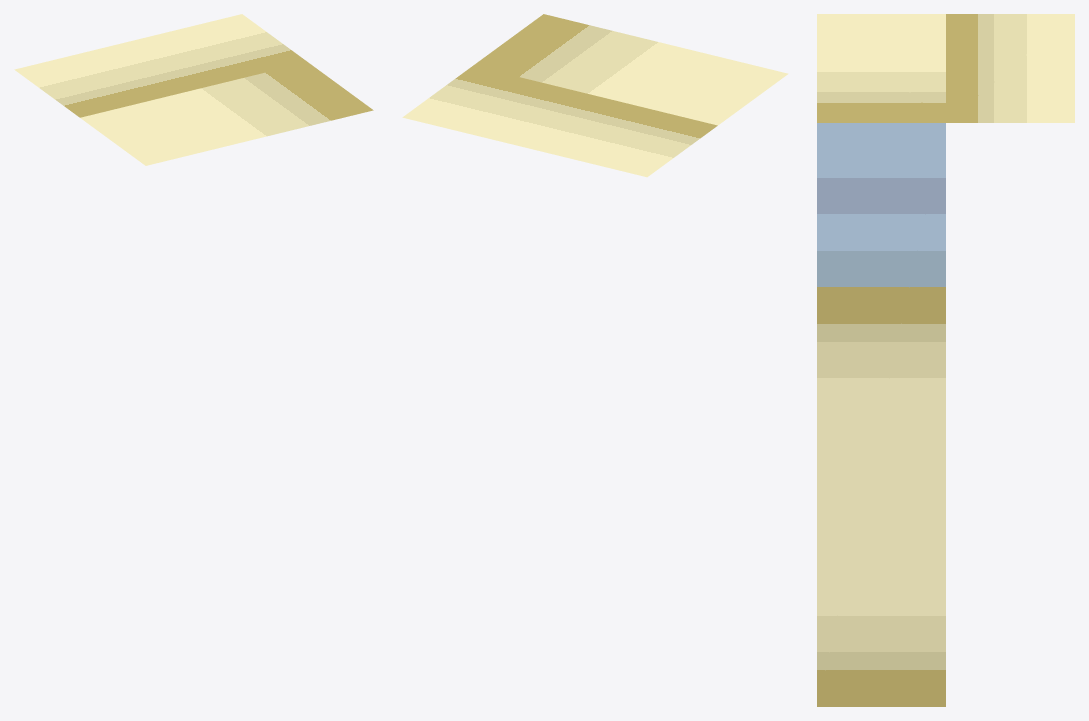
The picture shows the model from 3 angles, left to right: view 1: azimuth 30°, elevation 25°; view 2: azimuth 150°, elevation 25°; view 3: azimuth 270°, elevation 25°; orthographic projection. The views are drawn at different scales.
Size of the model in its own units: 1 by 2.5 by 1.
1 material, 1 textured.
